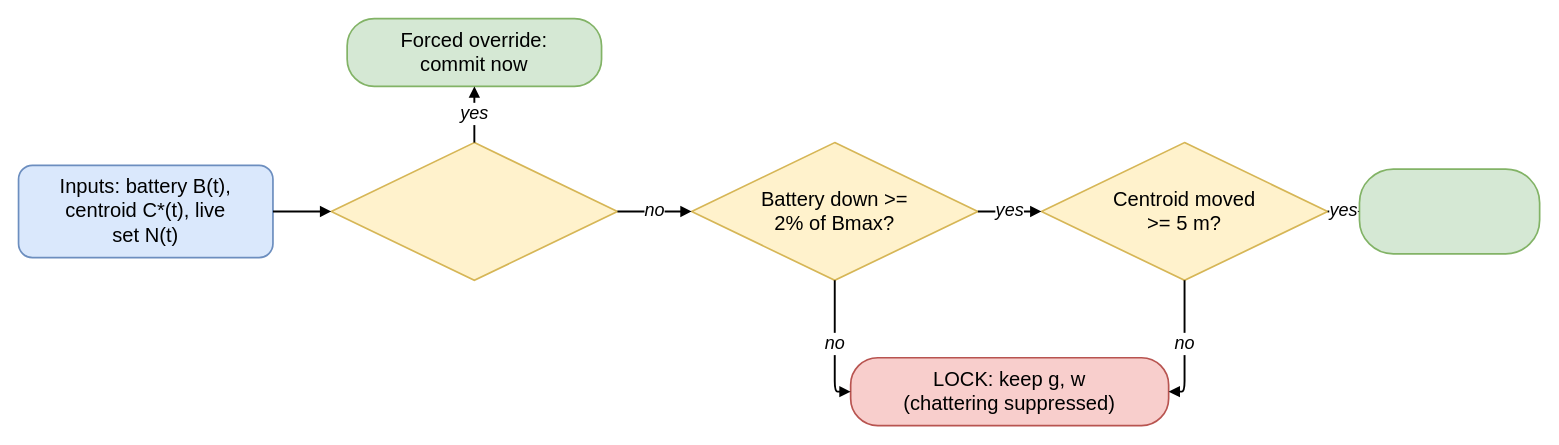
The diagram is 1559 pixels wide and 445 high, and some of its shapes have lost their labels. Each missing label, with the box of its shape:
COMMIT: g = C*, w = w*: (1358, 168, 1540, 254)
Live set N(t) differs from N(t_k)?: (330, 141, 618, 281)
